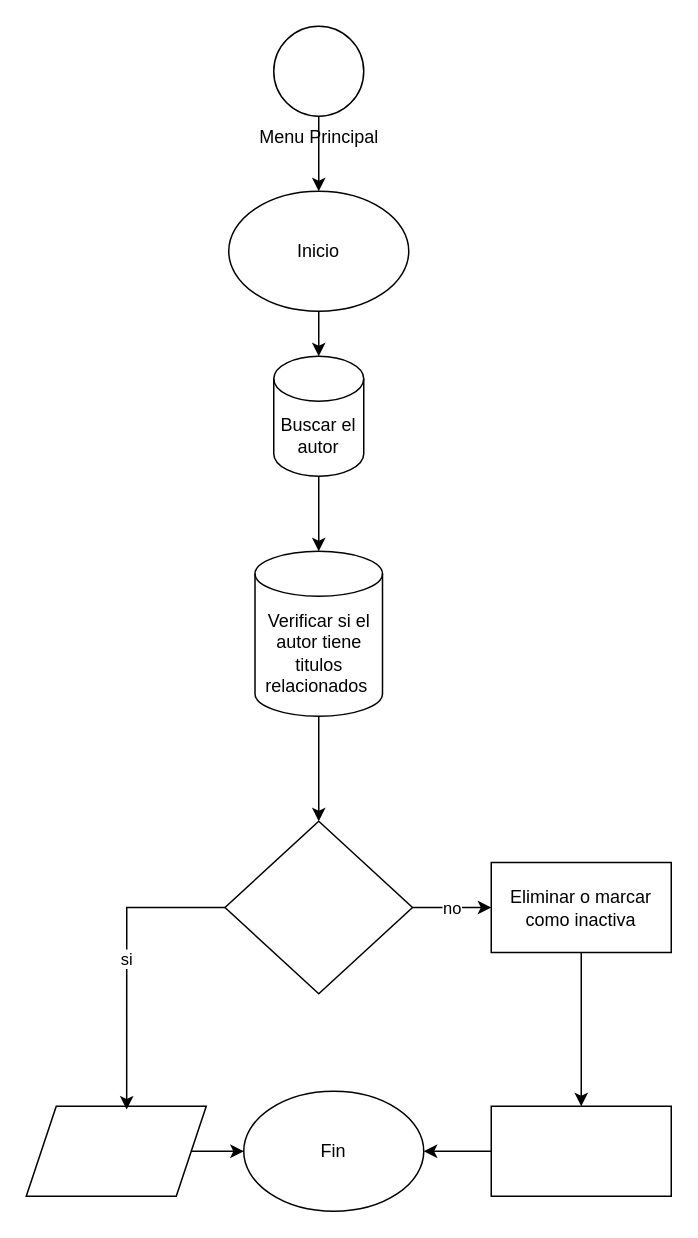
Some shapes in this 698 by 1238 pixel diagram are drawn without their labels. The centre of each missing label's shape, as x and y in pixels:
"Confirmar eliminacion" goes at [580,1150].
"Mostar mensaje de error" goes at [115,1150].
"¿El autor tiene registros relacionados?" goes at [318,907].
